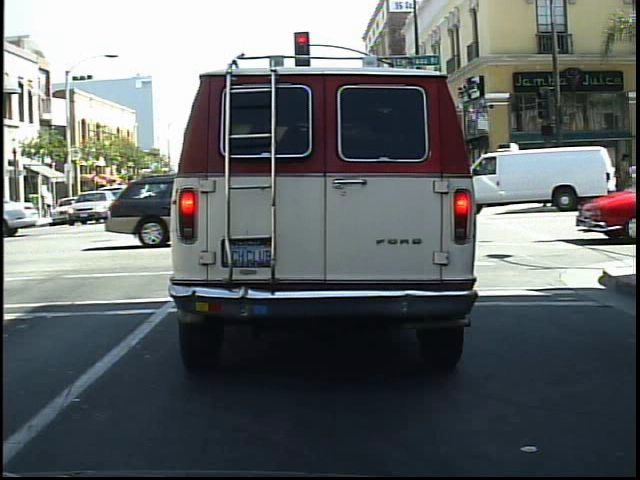person: (578, 143, 602, 210), (538, 152, 562, 209), (514, 154, 536, 207)
